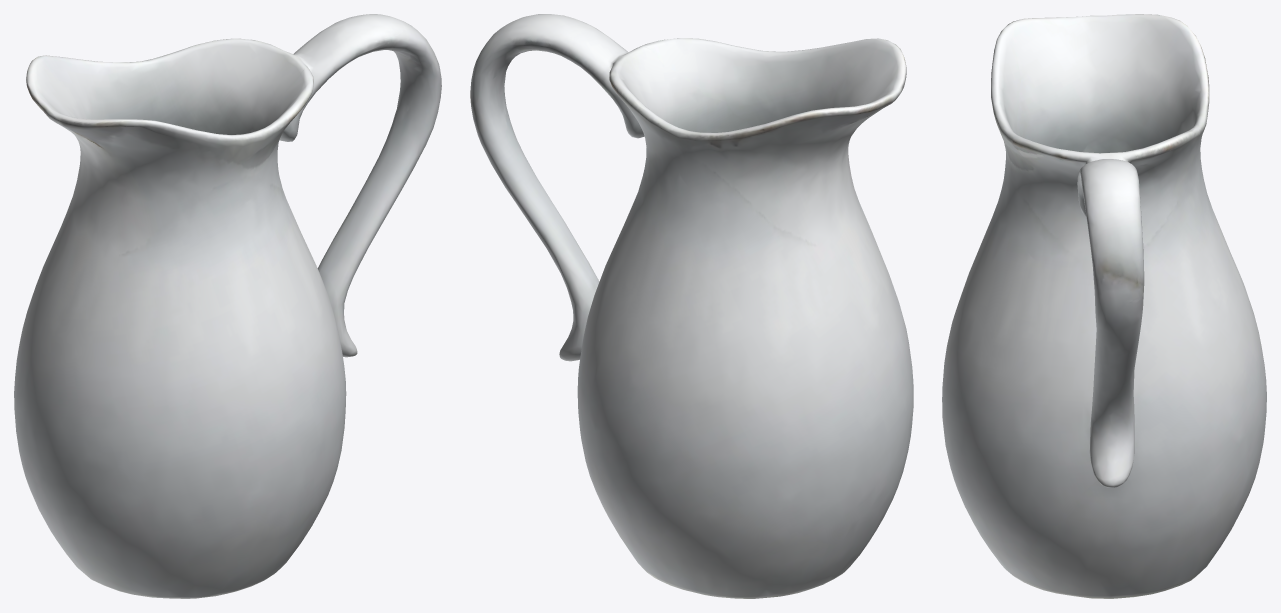
Rendered from Threshold_Porcelain_Pitcher_White.glb.
3 renders of one model, left to right at view 1: azimuth 30°, elevation 25°; view 2: azimuth 150°, elevation 25°; view 3: azimuth 270°, elevation 25°, orthographic. The views are drawn at different scales.
Visible parts, largest first — view 1: model.obj; view 2: model.obj; view 3: model.obj.
Part boxes in pixels (x1,y1,x2,y2): model.obj: (14,14,441,598); model.obj: (470,14,913,598); model.obj: (942,14,1266,598).
Size of the model in its own units: 0.8579 by 1 by 0.6062.
1 material, 1 textured.
